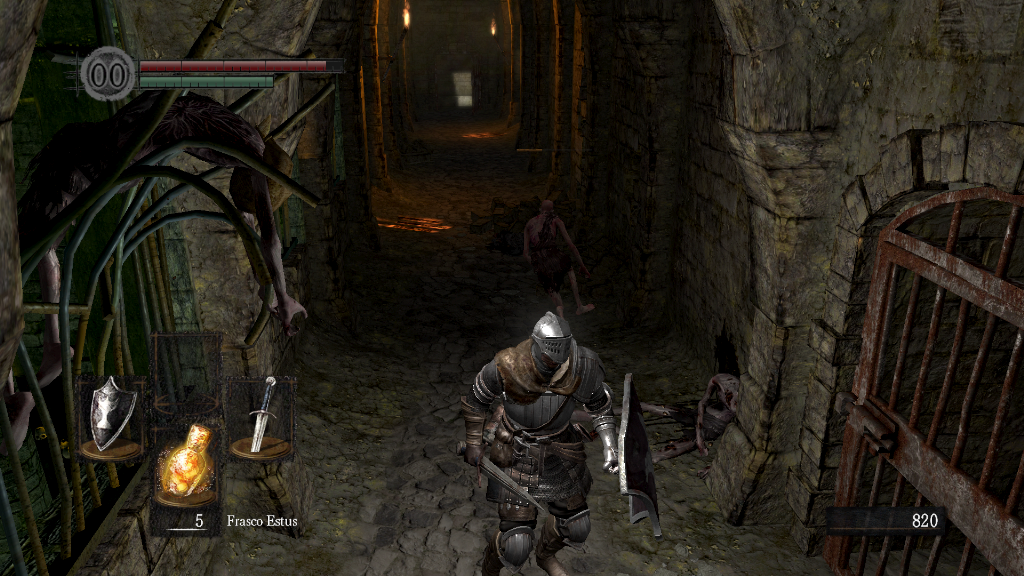health: (138, 58, 343, 71)
hollow: (521, 199, 599, 318)
humanity: (80, 45, 136, 102)
player: (457, 310, 665, 576)
souls: (825, 506, 945, 536)
stamina: (138, 74, 274, 88)
